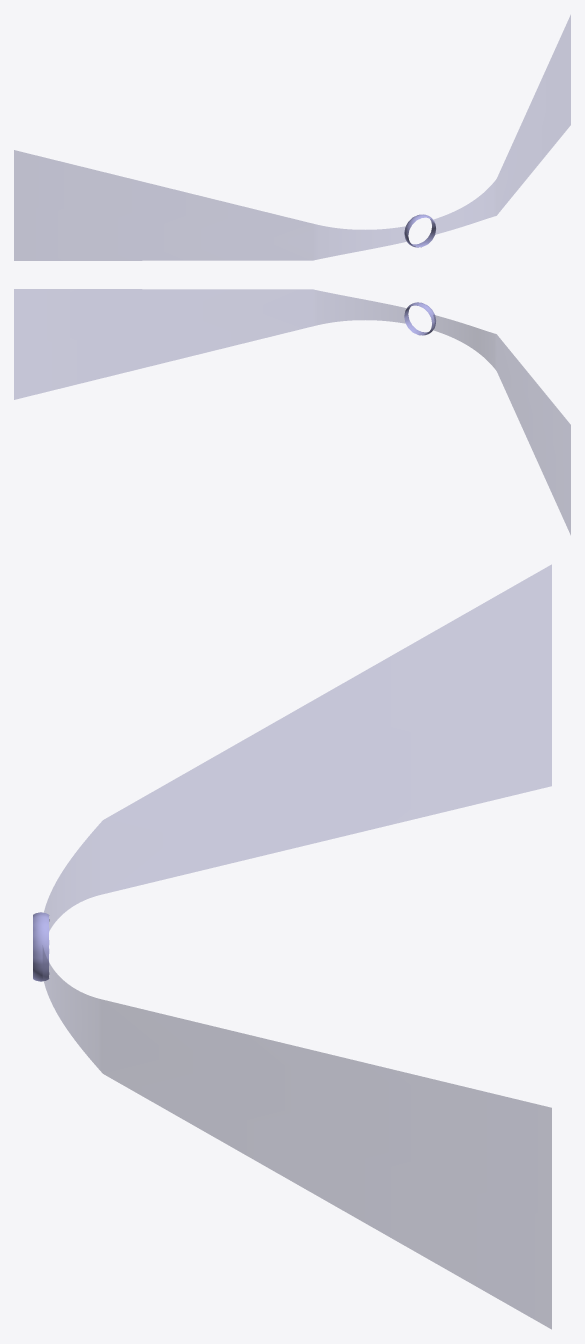
The model's file is ready.gltf.
The picture shows the model from 3 angles, top to bottom: view 1: azimuth 30°, elevation 25°; view 2: azimuth 150°, elevation 25°; view 3: azimuth 270°, elevation 25°; orthographic projection. The views are drawn at different scales.
Parts seen in each view (by area): view 1: Circle.000, Torus; view 2: Circle.000, Torus; view 3: Circle.000, Torus.
Part boxes in pixels (<box>): Circle.000: <box>14,15,570,260</box>; Torus: <box>404,214,435,247</box>; Circle.000: <box>14,289,570,534</box>; Torus: <box>404,302,435,335</box>; Circle.000: <box>43,564,551,1329</box>; Torus: <box>33,912,49,981</box>.
Size of the model in its own units: 1.94 by 0.3702 by 0.7847.
